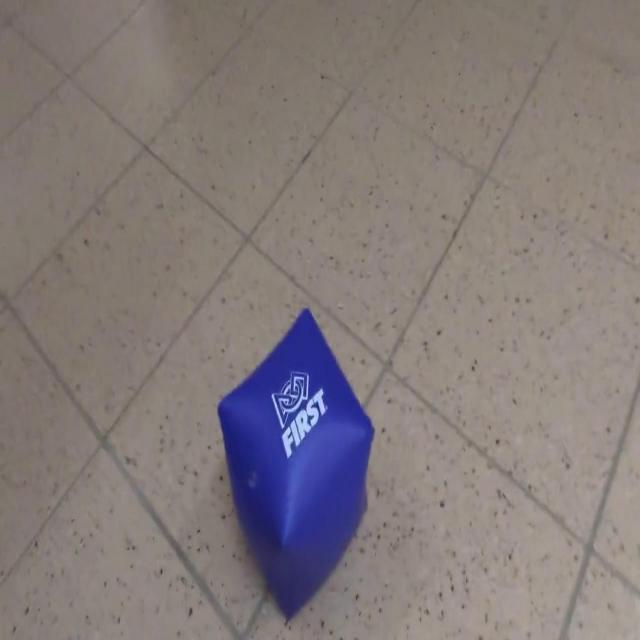frc_cube: (217, 308, 375, 622)
